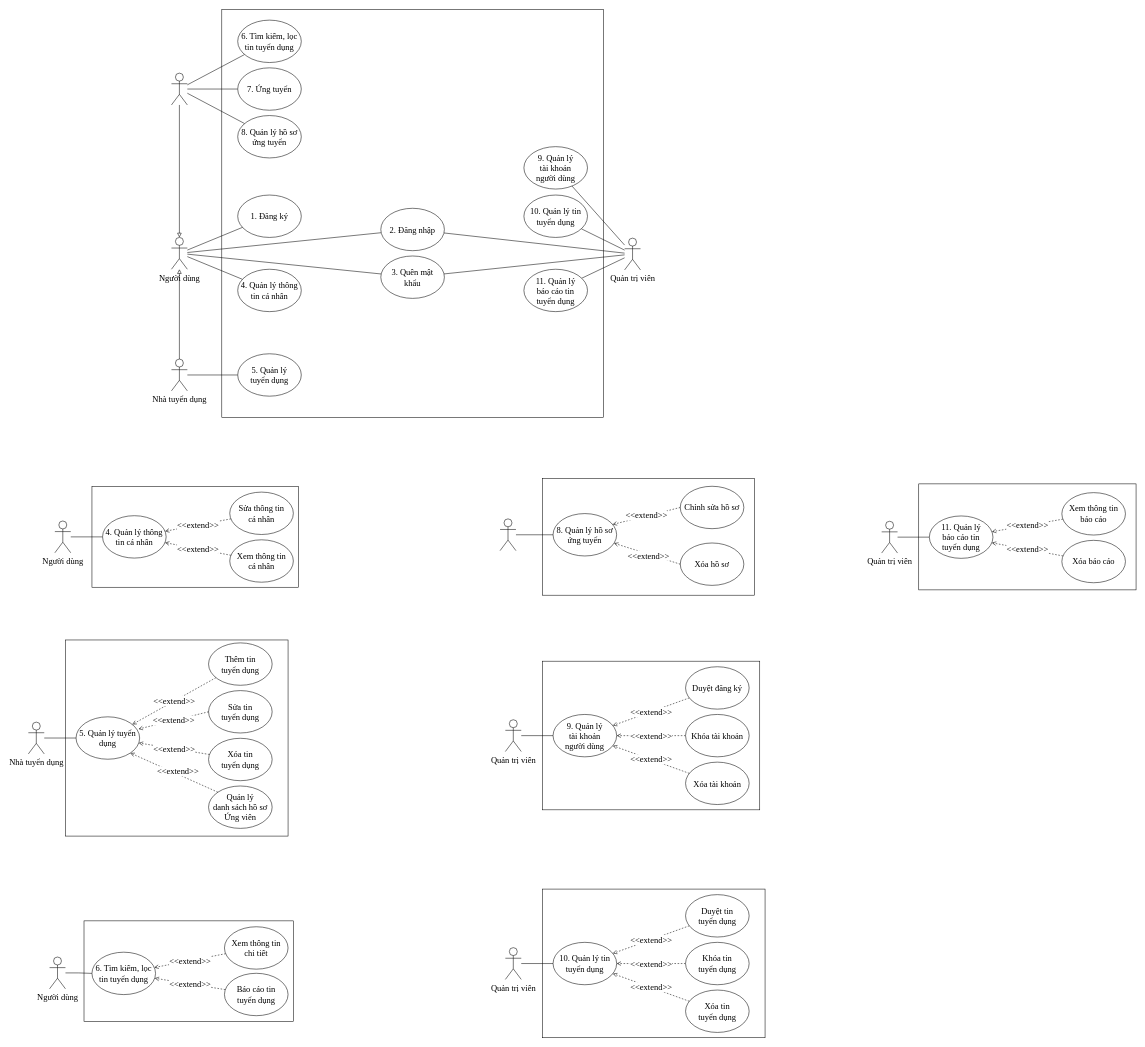
The diagram is 1145 pixels wide and 1047 high, and some of its shapes have lost their labels. The shapes that lost their labels are listed below. From the top down, each one's centre as x and y in pixels, then its label:
point (179, 89): Ứng viên tìm việc
point (508, 534): Ứng viên tìm việc
